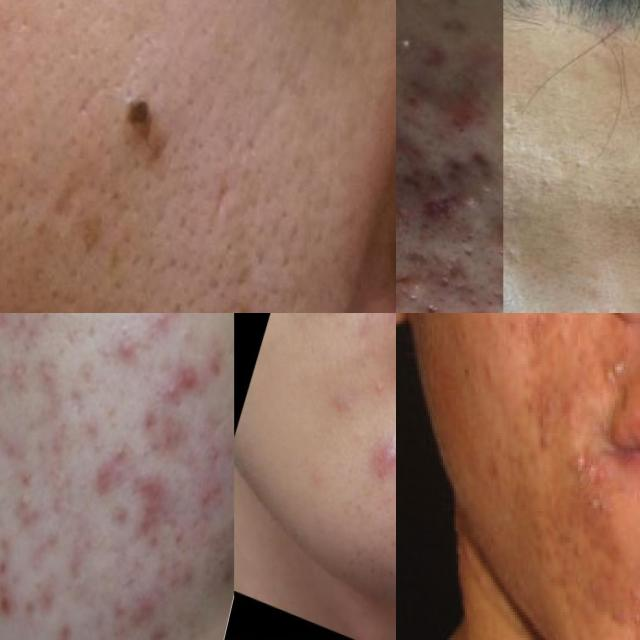acne_scars: (148, 358, 216, 438), (125, 475, 184, 564), (503, 93, 517, 142)
comedone: (113, 89, 170, 161), (0, 347, 48, 421), (103, 426, 149, 481), (4, 477, 45, 537), (113, 321, 145, 385), (27, 313, 67, 338), (367, 369, 392, 401), (320, 416, 343, 446), (487, 289, 503, 313)
papule: (359, 429, 396, 508), (323, 377, 366, 424)
sebo-crystan-conglo: (396, 53, 503, 268), (484, 210, 504, 269)
